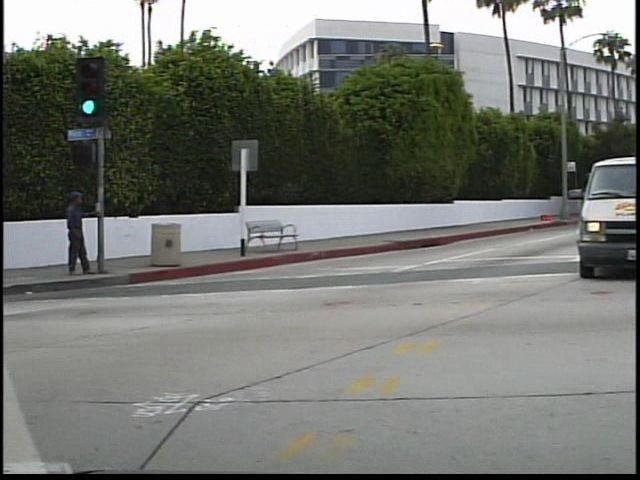person: (50, 185, 96, 277)
